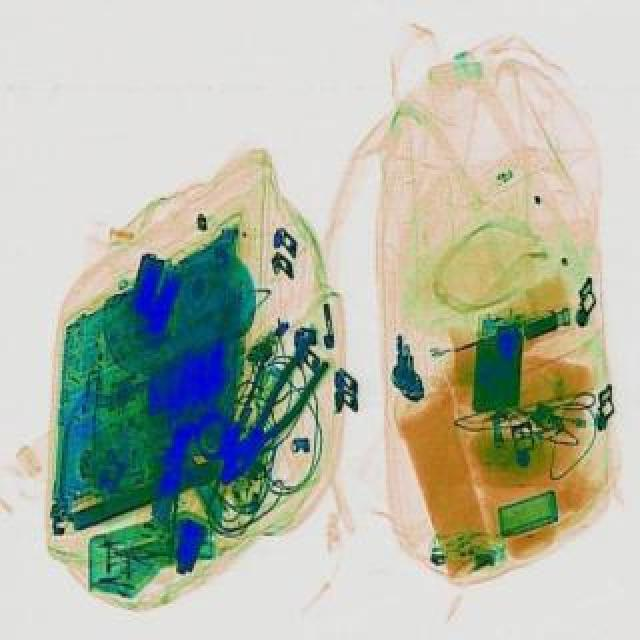wrench: (206, 336, 336, 488)
